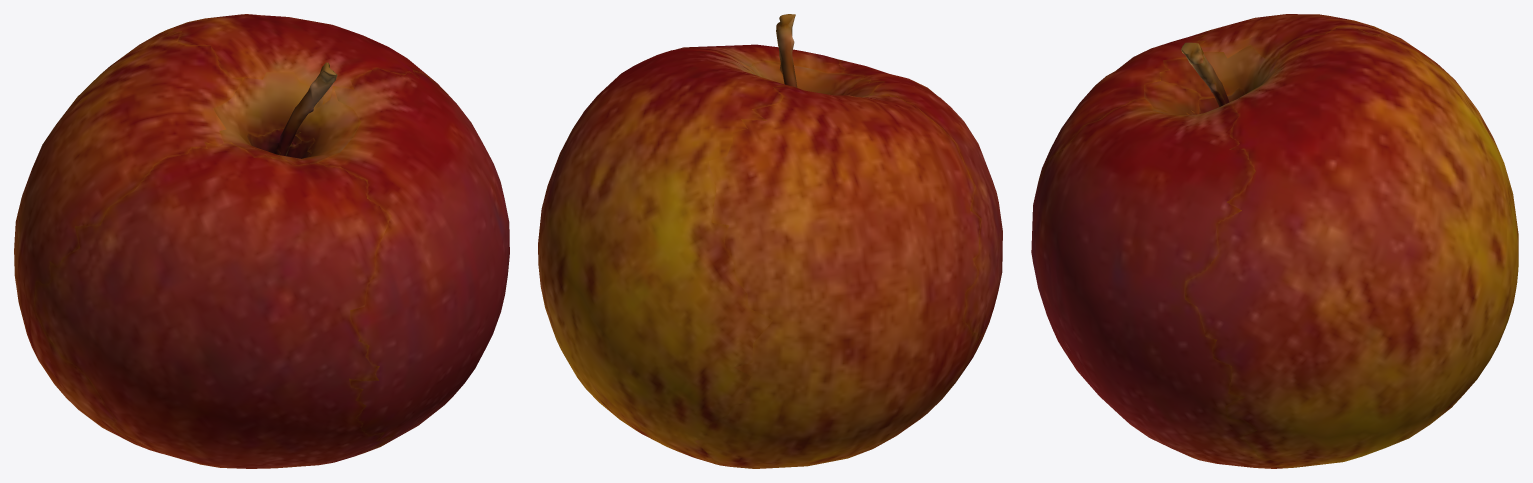
Rendered from food_apple_01_1k.glb.
3 renders of one model, left to right at view 1: azimuth 30°, elevation 25°; view 2: azimuth 150°, elevation 25°; view 3: azimuth 270°, elevation 25°, orthographic. The views are drawn at different scales.
Visible parts, largest first — view 1: food_apple_01; view 2: food_apple_01; view 3: food_apple_01.
Part boxes in pixels (x1,y1,x2,y2): food_apple_01: (14, 14, 509, 468); food_apple_01: (538, 14, 1002, 468); food_apple_01: (1031, 14, 1518, 468).
Size of the model in its own units: 0.0976 by 0.0854 by 0.0958.
1 material, 1 textured.
